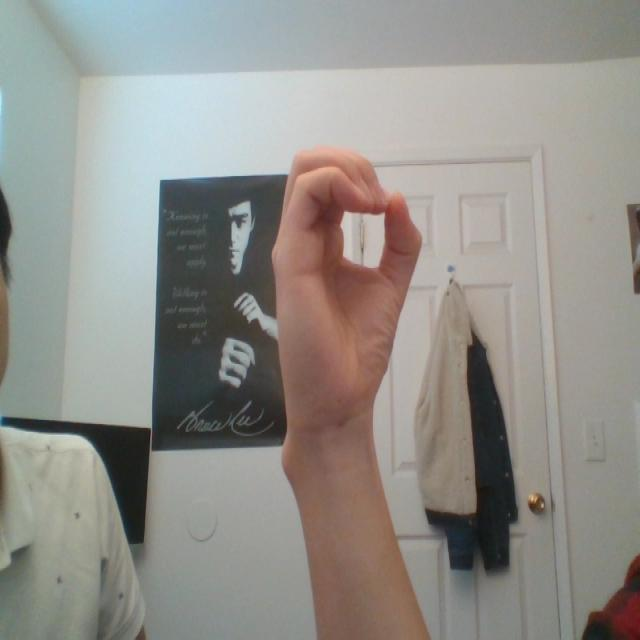O: (247, 123, 445, 489)
